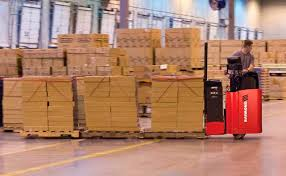Pallet Jack: (144, 41, 263, 141)
